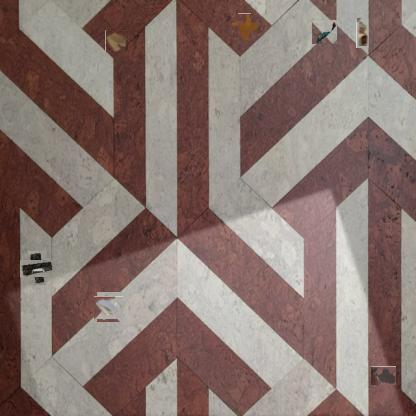dirty: (95, 294, 122, 321), (24, 255, 50, 281), (312, 20, 336, 45), (105, 30, 128, 52), (356, 18, 369, 48)
liquid: (370, 366, 396, 385), (234, 17, 255, 38)
